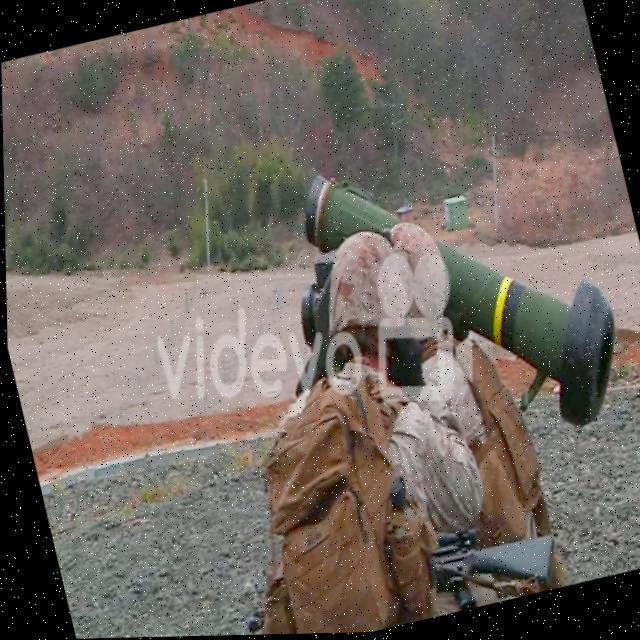rocket: (249, 110, 640, 492)
